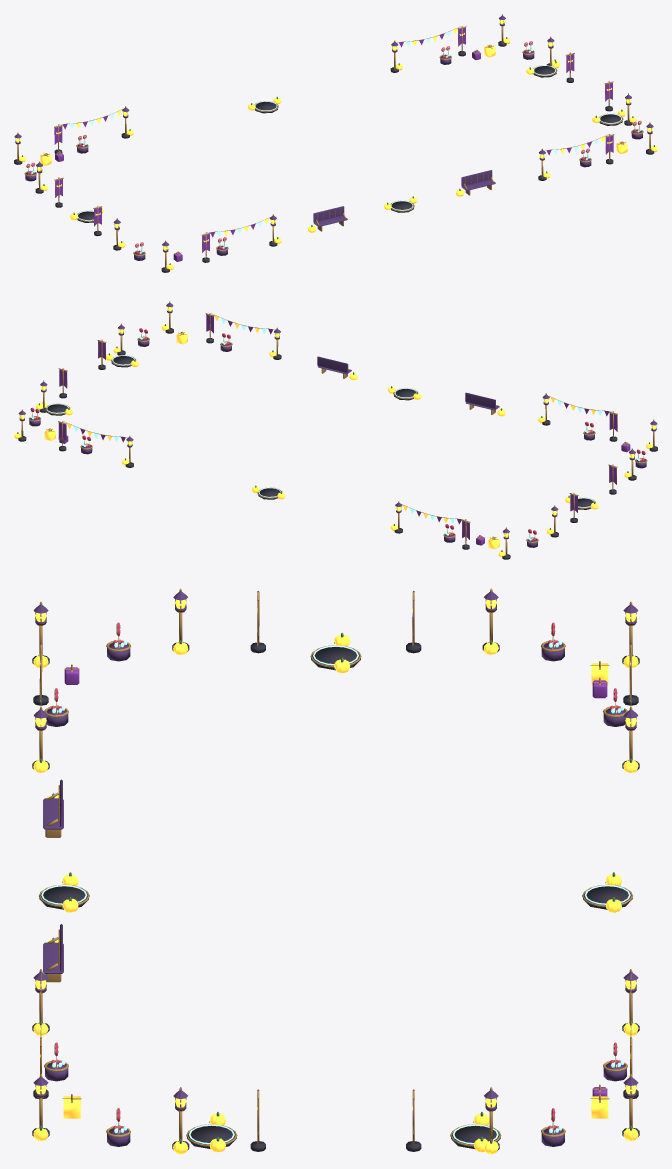
Rendered from A056-hub-decor-native-optimized.glb.
3 views of the same model, one above another, from view 1: azimuth 30°, elevation 25°; view 2: azimuth 150°, elevation 25°; view 3: azimuth 270°, elevation 25° (orthographic). The views are drawn at different scales.
Parts seen in each view (by area): view 1: Halloween_Decor__Trim_warm_bronze, Halloween_Decor__Hull_plum_anodized_alloy, Halloween_Decor__Hull_graphite_violet, Halloween_Decor__Markings_pumpkin_amber, Halloween_Decor__Fabric_grape_velvet, Halloween_Decor__Light_spectral_mint, Halloween_Decor__Light_lantern_honey; view 2: Halloween_Decor__Trim_warm_bronze, Halloween_Decor__Hull_plum_anodized_alloy, Halloween_Decor__Hull_graphite_violet, Halloween_Decor__Markings_pumpkin_amber, Halloween_Decor__Fabric_grape_velvet, Halloween_Decor__Light_spectral_mint, Halloween_Decor__Candy_coral; view 3: Halloween_Decor__Trim_warm_bronze, Halloween_Decor__Hull_plum_anodized_alloy, Halloween_Decor__Hull_graphite_violet, Halloween_Decor__Markings_pumpkin_amber, Halloween_Decor__Light_spectral_mint, Halloween_Decor__Light_lantern_honey.
Part boxes in pixels (bbox=[...]): Halloween_Decor__Trim_warm_bronze: bbox=[15, 14, 651, 268]; Halloween_Decor__Hull_plum_anodized_alloy: bbox=[14, 16, 653, 260]; Halloween_Decor__Hull_graphite_violet: bbox=[14, 41, 654, 272]; Halloween_Decor__Markings_pumpkin_amber: bbox=[19, 28, 657, 270]; Halloween_Decor__Fabric_grape_velvet: bbox=[54, 27, 613, 261]; Halloween_Decor__Light_spectral_mint: bbox=[28, 31, 641, 252]; Halloween_Decor__Light_lantern_honey: bbox=[15, 20, 657, 269]; Halloween_Decor__Trim_warm_bronze: bbox=[19, 301, 656, 555]; Halloween_Decor__Hull_plum_anodized_alloy: bbox=[18, 303, 657, 547]; Halloween_Decor__Hull_graphite_violet: bbox=[18, 328, 657, 559]; Halloween_Decor__Markings_pumpkin_amber: bbox=[14, 315, 652, 557]; Halloween_Decor__Fabric_grape_velvet: bbox=[59, 315, 630, 545]; Halloween_Decor__Light_spectral_mint: bbox=[30, 318, 640, 540]; Halloween_Decor__Candy_coral: bbox=[30, 328, 645, 541]; Halloween_Decor__Trim_warm_bronze: bbox=[35, 588, 636, 1146]; Halloween_Decor__Hull_plum_anodized_alloy: bbox=[33, 592, 638, 1146]; Halloween_Decor__Hull_graphite_violet: bbox=[32, 642, 639, 1151]; Halloween_Decor__Markings_pumpkin_amber: bbox=[33, 607, 638, 1154]; Halloween_Decor__Light_spectral_mint: bbox=[40, 640, 630, 1144]; Halloween_Decor__Light_lantern_honey: bbox=[33, 599, 636, 1149].
Bounding box in the file's own units: 1 × 0.0563 × 0.5008.
